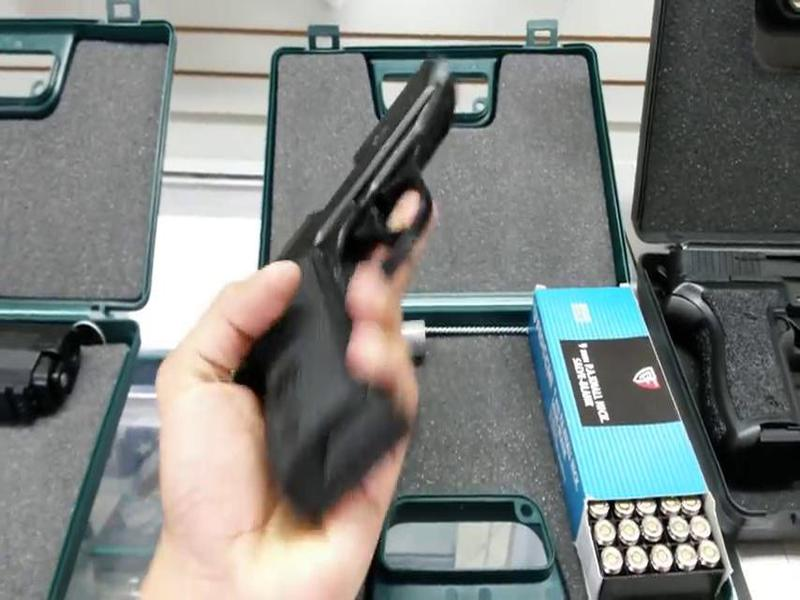Pistola: (223, 39, 472, 517)
